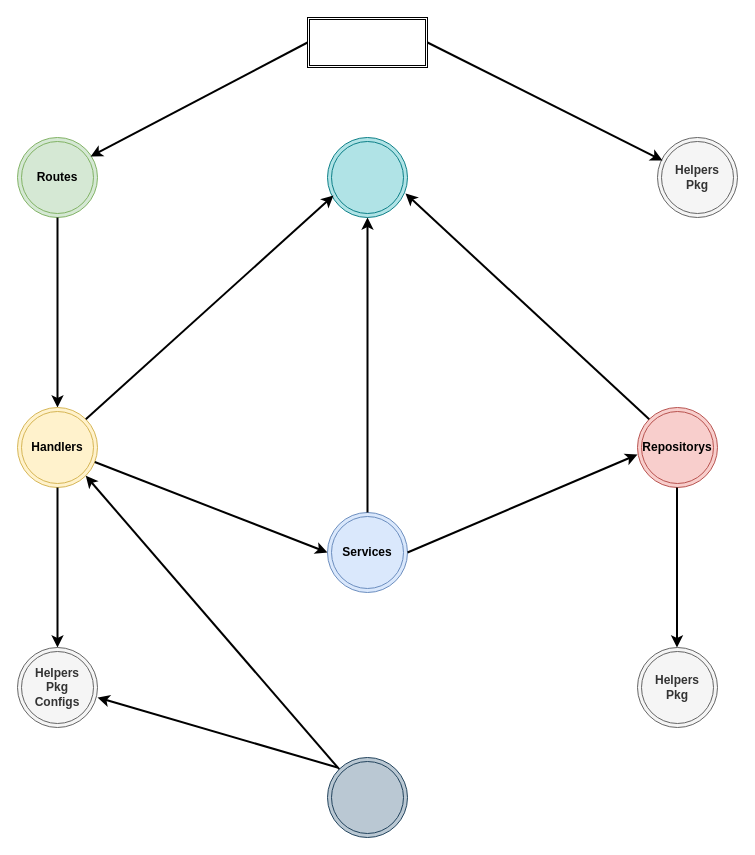
Image size: 755x855. Some labels were removed from this diagram. Here are the shapes that lost their labels. From the top down, the centre of each, then its label:
At point (367, 42): "main.go".
At point (367, 177): "Schemas Models".
At point (367, 797): "Tests".
